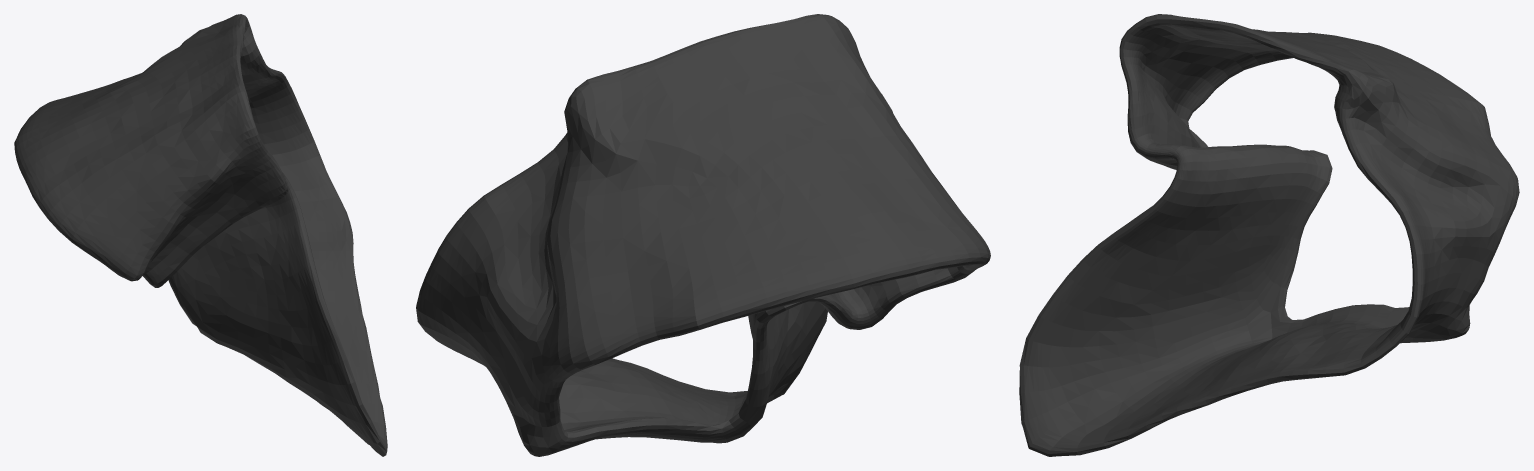
File: Musculotubal_canal_L.glb
3 renders of one model, left to right at view 1: azimuth 30°, elevation 25°; view 2: azimuth 150°, elevation 25°; view 3: azimuth 270°, elevation 25°, orthographic. The views are drawn at different scales.
Visible parts, largest first — view 1: Musculotubal_canal_L; view 2: Musculotubal_canal_L; view 3: Musculotubal_canal_L.
Part boxes in pixels (x1,y1,x2,y2): Musculotubal_canal_L: (14,14,387,456); Musculotubal_canal_L: (416,14,990,456); Musculotubal_canal_L: (1019,14,1519,456).
Bounding box in the file's own units: 1.35 × 1.31 × 1.5.
1 material, 1 textured.
